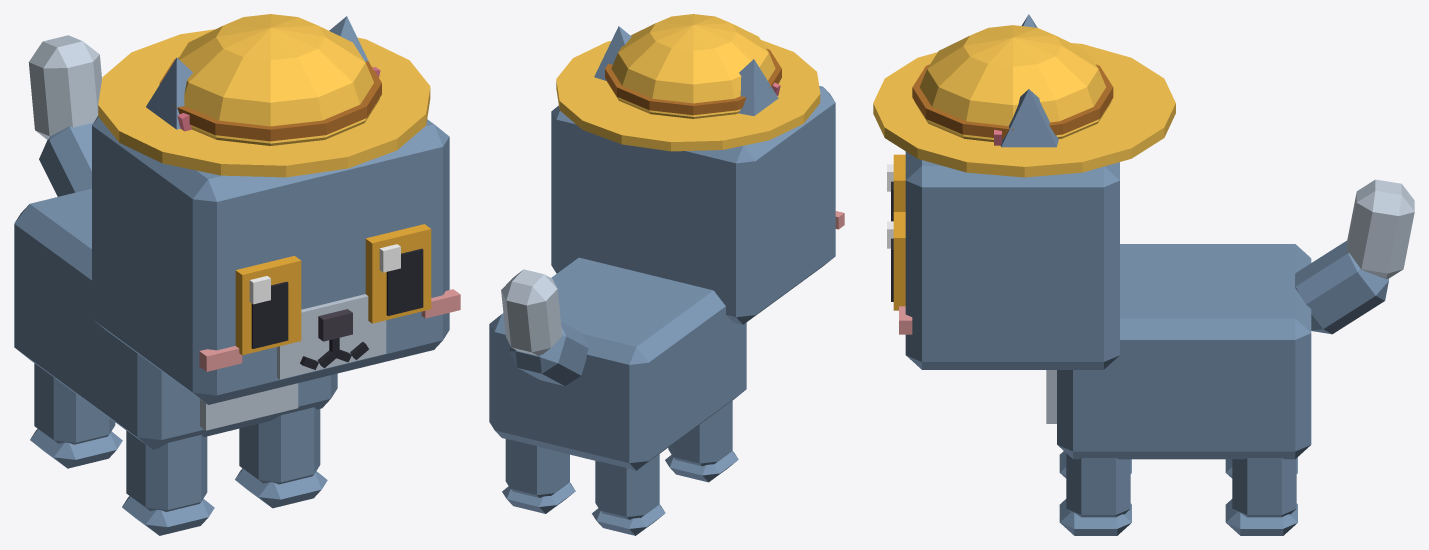
The model's file is CatCafe_Cat_Puddle.fbx.
3 views of the same model, side by side, from view 1: azimuth 30°, elevation 25°; view 2: azimuth 150°, elevation 25°; view 3: azimuth 270°, elevation 25° (orthographic). The views are drawn at different scales.
Visible parts, largest first — view 1: CatCafe_Cat_Puddle_Head, CatCafe_Cat_Puddle_Prop, CatCafe_Cat_Puddle_Body, CatCafe_Cat_Puddle_Tail, CatCafe_Cat_Puddle_LegF2, CatCafe_Cat_Puddle_LegF1, CatCafe_Cat_Puddle_Eye2, CatCafe_Cat_Puddle_Eye1, CatCafe_Cat_Puddle_LegB2, CatCafe_Cat_Puddle_EarR, CatCafe_Cat_Puddle_EarL; view 2: CatCafe_Cat_Puddle_Head, CatCafe_Cat_Puddle_Body, CatCafe_Cat_Puddle_Prop, CatCafe_Cat_Puddle_Tail, CatCafe_Cat_Puddle_LegB2, CatCafe_Cat_Puddle_LegB1, CatCafe_Cat_Puddle_LegF2, CatCafe_Cat_Puddle_EarR, CatCafe_Cat_Puddle_EarL; view 3: CatCafe_Cat_Puddle_Body, CatCafe_Cat_Puddle_Head, CatCafe_Cat_Puddle_Prop, CatCafe_Cat_Puddle_Tail, CatCafe_Cat_Puddle_LegF1, CatCafe_Cat_Puddle_LegB1, CatCafe_Cat_Puddle_EarL, CatCafe_Cat_Puddle_Eye1, CatCafe_Cat_Puddle_Eye2.
Part boxes in pixels (<box>): CatCafe_Cat_Puddle_Head: <box>92,116,460,404</box>; CatCafe_Cat_Puddle_Prop: <box>98,14,430,177</box>; CatCafe_Cat_Puddle_Body: <box>14,188,337,449</box>; CatCafe_Cat_Puddle_Tail: <box>28,35,101,196</box>; CatCafe_Cat_Puddle_LegF2: <box>122,430,214,535</box>; CatCafe_Cat_Puddle_LegF1: <box>235,407,327,508</box>; CatCafe_Cat_Puddle_Eye2: <box>235,256,301,355</box>; CatCafe_Cat_Puddle_Eye1: <box>365,224,431,323</box>; CatCafe_Cat_Puddle_LegB2: <box>30,363,122,468</box>; CatCafe_Cat_Puddle_EarR: <box>146,57,192,131</box>; CatCafe_Cat_Puddle_EarL: <box>329,16,380,77</box>; CatCafe_Cat_Puddle_Head: <box>551,86,844,324</box>; CatCafe_Cat_Puddle_Body: <box>489,257,746,470</box>; CatCafe_Cat_Puddle_Prop: <box>556,14,820,151</box>; CatCafe_Cat_Puddle_Tail: <box>501,269,588,385</box>; CatCafe_Cat_Puddle_LegB2: <box>592,454,665,535</box>; CatCafe_Cat_Puddle_LegB1: <box>502,439,575,513</box>; CatCafe_Cat_Puddle_LegF2: <box>665,400,738,482</box>; CatCafe_Cat_Puddle_EarR: <box>738,59,780,115</box>; CatCafe_Cat_Puddle_EarL: <box>594,26,631,80</box>; CatCafe_Cat_Puddle_Body: <box>1046,244,1311,459</box>; CatCafe_Cat_Puddle_Head: <box>899,151,1119,369</box>; CatCafe_Cat_Puddle_Prop: <box>873,25,1175,177</box>; CatCafe_Cat_Puddle_Tail: <box>1295,179,1414,334</box>; CatCafe_Cat_Puddle_LegF1: <box>1059,453,1131,535</box>; CatCafe_Cat_Puddle_LegB1: <box>1225,458,1297,535</box>; CatCafe_Cat_Puddle_EarL: <box>994,89,1058,147</box>; CatCafe_Cat_Puddle_Eye1: <box>887,212,905,310</box>; CatCafe_Cat_Puddle_Eye2: <box>887,154,905,221</box>.
Bounding box in the file's own units: 1.13 × 1.91 × 2.02.
1 material, 1 textured.
